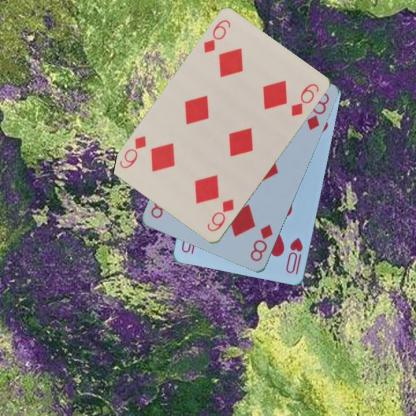10h: (283, 235, 305, 275)
6d: (200, 17, 232, 55), (204, 197, 236, 234)
8d: (247, 222, 274, 263)
